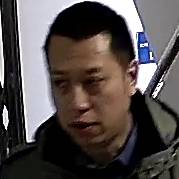qg: (27, 2, 161, 148)
